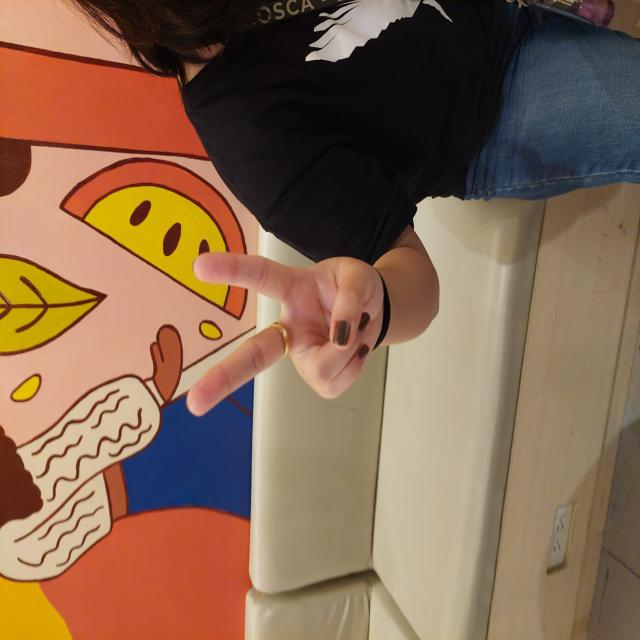V: (221, 184, 389, 389)
